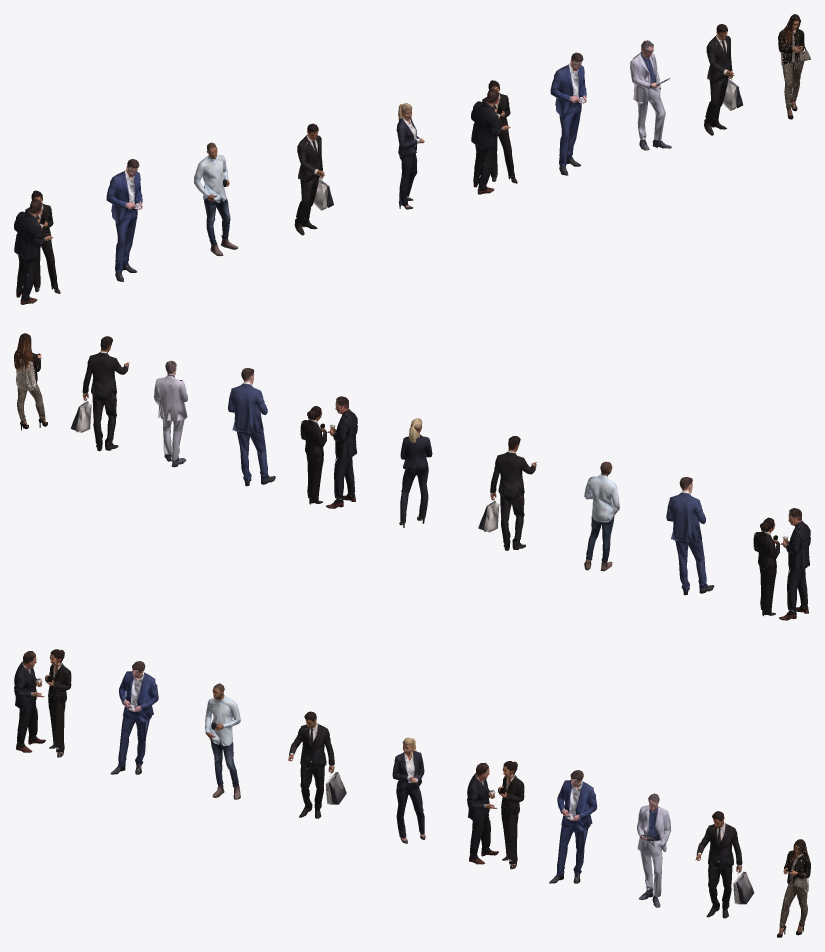
The model's file is people10_lod1.glb.
3 views of the same model, one above another, from view 1: azimuth 30°, elevation 25°; view 2: azimuth 150°, elevation 25°; view 3: azimuth 330°, elevation 25° (orthographic).
Visible parts, largest first — view 1: Collection of office workers x 10-002_Collection of office w (×2), Collection of office workers x 10-007_Collection of office w (×2), Collection of office workers x 10-010_Collection of office w (×2), Collection of office workers x 10-008_Collection of office w, Collection of office workers x 10-003_Collection of office w, Collection of office workers x 10-005_Collection of office w, Collection of office workers x 10-004_Collection of office w, Collection of office workers x 10-006_Collection of office w, Collection of office workers x 10-009_Collection of office w, Collection of office workers x 10-001_Collection of office w; view 2: Collection of office workers x 10-007_Collection of office w (×2), Collection of office workers x 10-002_Collection of office w (×2), Collection of office workers x 10-010_Collection of office w (×2), Collection of office workers x 10-005_Collection of office w, Collection of office workers x 10-009_Collection of office w, Collection of office workers x 10-003_Collection of office w, Collection of office workers x 10-008_Collection of office w, Collection of office workers x 10-004_Collection of office w, Collection of office workers x 10-006_Collection of office w, Collection of office workers x 10-001_Collection of office w; view 3: Collection of office workers x 10-002_Collection of office w (×2), Collection of office workers x 10-007_Collection of office w (×2), Collection of office workers x 10-010_Collection of office w (×2), Collection of office workers x 10-009_Collection of office w, Collection of office workers x 10-005_Collection of office w, Collection of office workers x 10-003_Collection of office w, Collection of office workers x 10-008_Collection of office w, Collection of office workers x 10-006_Collection of office w, Collection of office workers x 10-004_Collection of office w, Collection of office workers x 10-001_Collection of office w.
Boxes of the visible parts, x1,y1,x2,y2 form: Collection of office workers x 10-002_Collection of office w (×2): (14, 190, 60, 304); Collection of office workers x 10-007_Collection of office w (×2): (471, 80, 517, 194); Collection of office workers x 10-010_Collection of office w (×2): (778, 14, 810, 119); Collection of office workers x 10-008_Collection of office w: (550, 52, 586, 175); Collection of office workers x 10-003_Collection of office w: (106, 159, 142, 281); Collection of office workers x 10-005_Collection of office w: (294, 123, 333, 235); Collection of office workers x 10-004_Collection of office w: (194, 142, 238, 256); Collection of office workers x 10-006_Collection of office w: (630, 40, 671, 150); Collection of office workers x 10-009_Collection of office w: (704, 24, 742, 135); Collection of office workers x 10-001_Collection of office w: (396, 103, 424, 209); Collection of office workers x 10-007_Collection of office w (×2): (300, 396, 357, 508); Collection of office workers x 10-002_Collection of office w (×2): (753, 508, 810, 620); Collection of office workers x 10-010_Collection of office w (×2): (14, 333, 47, 430); Collection of office workers x 10-005_Collection of office w: (478, 436, 536, 550); Collection of office workers x 10-009_Collection of office w: (70, 336, 129, 451); Collection of office workers x 10-003_Collection of office w: (666, 477, 714, 595); Collection of office workers x 10-008_Collection of office w: (228, 368, 275, 486); Collection of office workers x 10-004_Collection of office w: (584, 461, 619, 571); Collection of office workers x 10-006_Collection of office w: (153, 360, 187, 467); Collection of office workers x 10-001_Collection of office w: (399, 418, 432, 527); Collection of office workers x 10-002_Collection of office w (×2): (14, 649, 71, 757); Collection of office workers x 10-007_Collection of office w (×2): (467, 761, 524, 869); Collection of office workers x 10-010_Collection of office w (×2): (777, 839, 810, 937); Collection of office workers x 10-009_Collection of office w: (695, 811, 754, 918); Collection of office workers x 10-005_Collection of office w: (288, 711, 346, 818); Collection of office workers x 10-003_Collection of office w: (110, 661, 158, 774); Collection of office workers x 10-008_Collection of office w: (549, 770, 597, 883); Collection of office workers x 10-006_Collection of office w: (637, 793, 671, 907); Collection of office workers x 10-004_Collection of office w: (205, 683, 240, 799); Collection of office workers x 10-001_Collection of office w: (392, 737, 425, 843).
Size of the model in its own units: 14.34 by 1.95 by 1.04.
11 materials, 10 textured.
